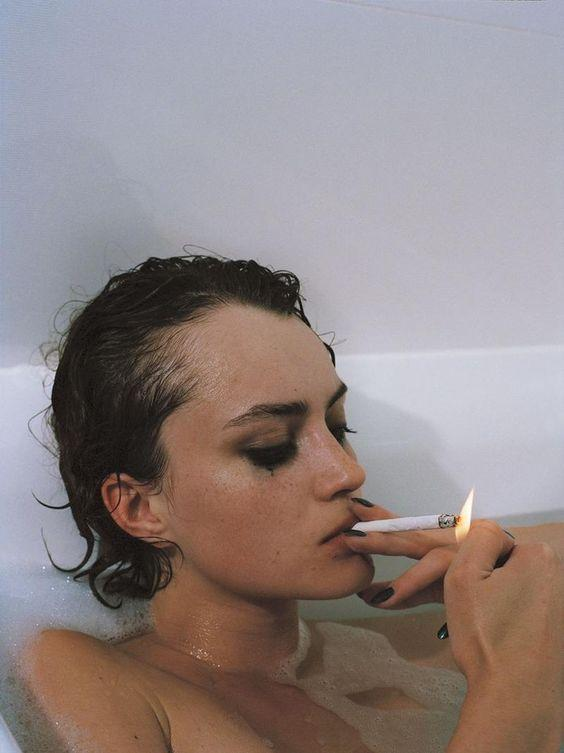cigarette: (351, 513, 464, 533)
